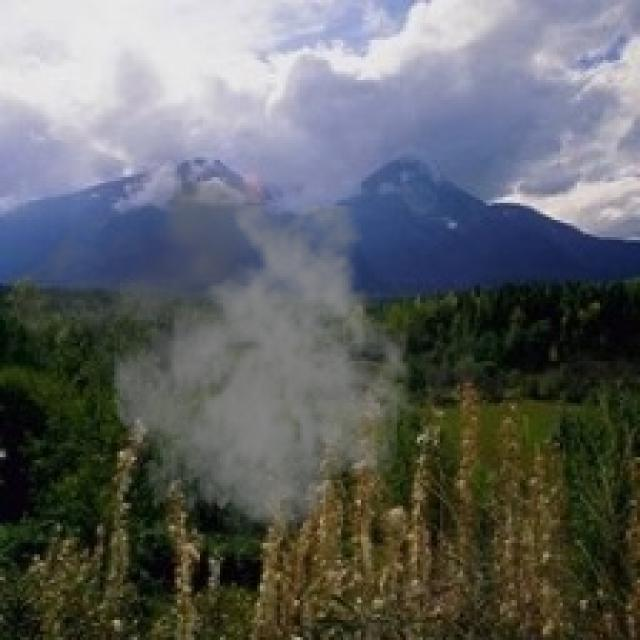Smoke: (3, 157, 420, 554)
